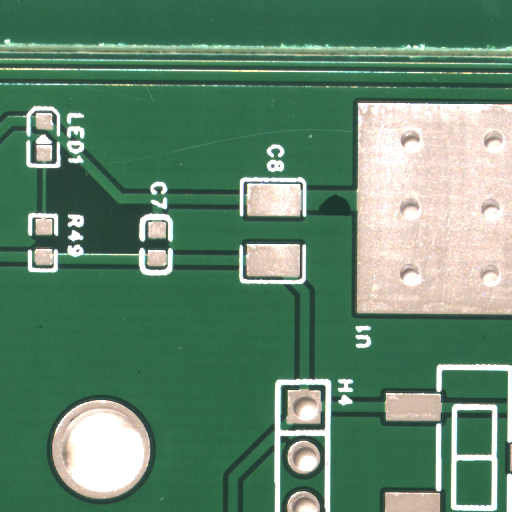Mouse_bite: (333, 202, 368, 223)
